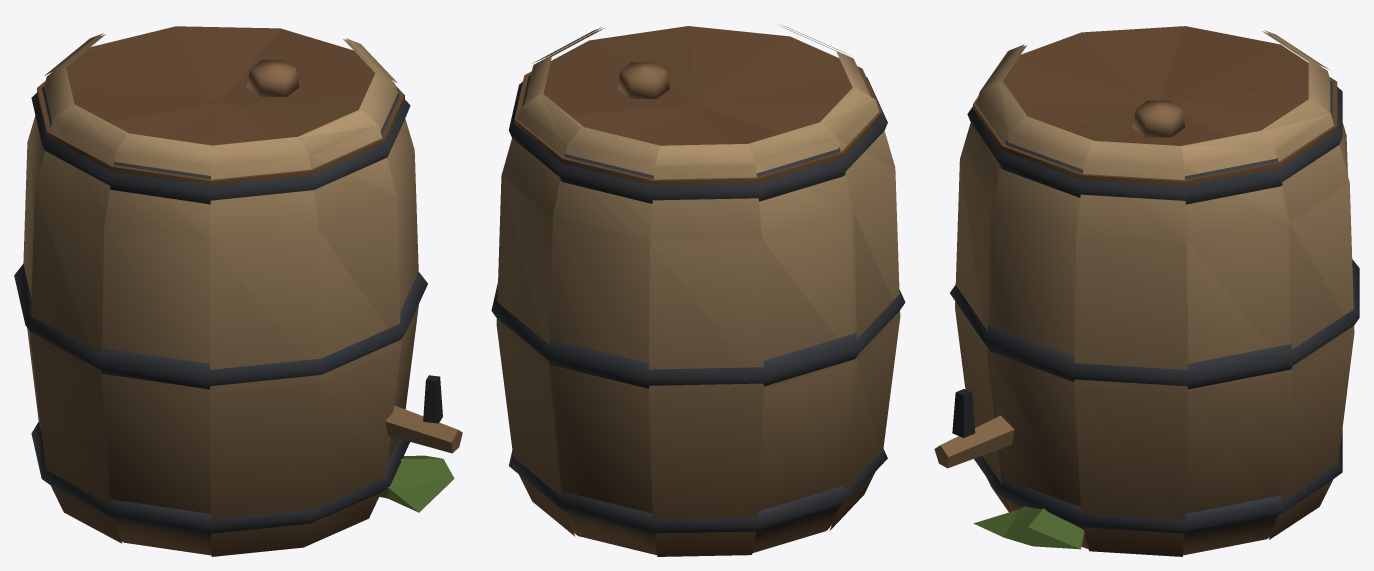
Rendered from tja-barrel.glb.
3 renders of one model, left to right at view 1: azimuth 30°, elevation 25°; view 2: azimuth 150°, elevation 25°; view 3: azimuth 270°, elevation 25°, orthographic.
Parts seen in each view (by area): view 1: barrel; view 2: barrel; view 3: barrel.
Part boxes in pixels (x1,y1,x2,y2): barrel: (14, 26, 462, 556); barrel: (491, 24, 905, 556); barrel: (934, 26, 1359, 556).
Bounding box in the file's own units: 0.5036 × 0.547 × 0.5171.
